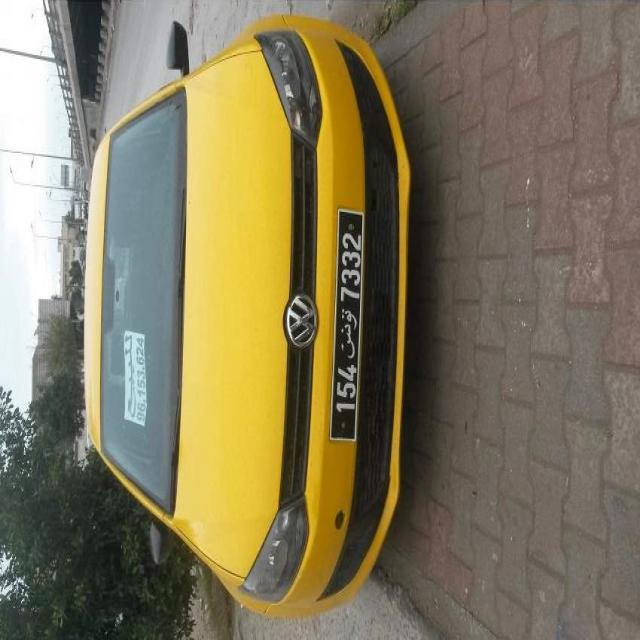licence plate: (332, 212, 362, 438)
